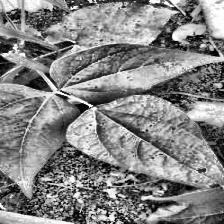ALS: (56, 108, 224, 193), (64, 47, 210, 100), (0, 98, 50, 149)
